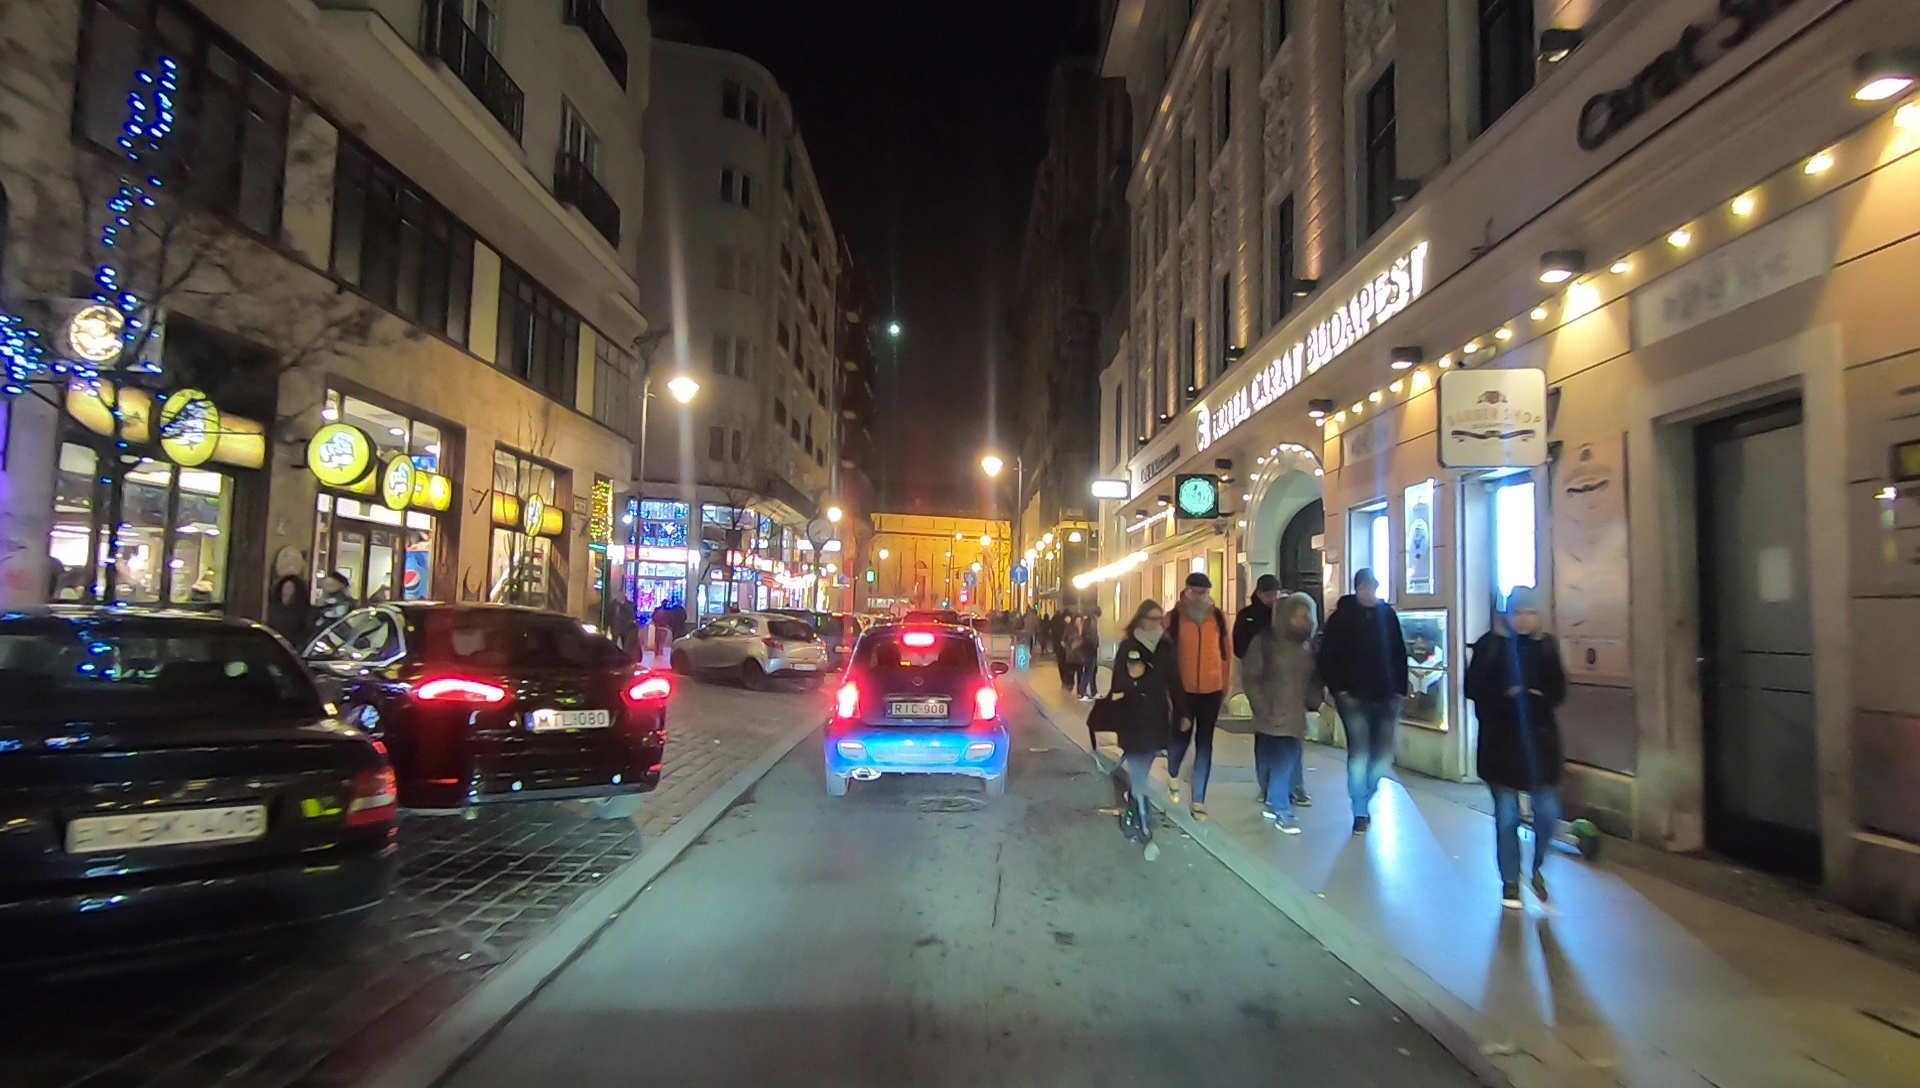person: (1469, 593, 1566, 909), (1078, 604, 1176, 864), (1325, 564, 1399, 832), (1251, 599, 1319, 834), (1169, 571, 1230, 819), (1079, 602, 1103, 700), (1051, 608, 1076, 692), (614, 592, 638, 661), (1019, 604, 1038, 660), (652, 600, 668, 654), (670, 598, 686, 654)
